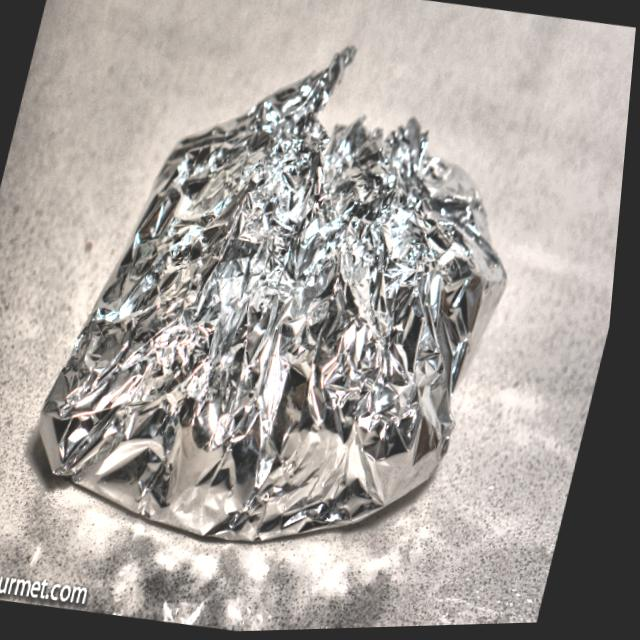Foil: (14, 0, 569, 589)
